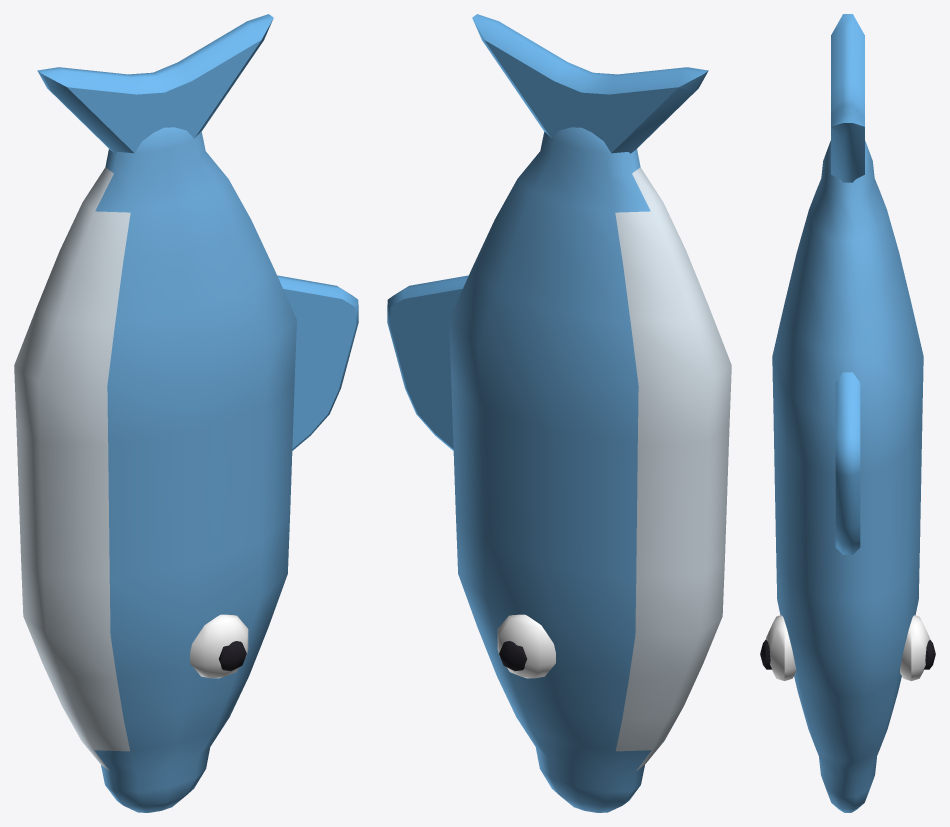
Rendered from item_fish.glb.
3 renders of one model, left to right at view 1: azimuth 30°, elevation 25°; view 2: azimuth 150°, elevation 25°; view 3: azimuth 270°, elevation 25°, orthographic. The views are drawn at different scales.
Visible parts, largest first — view 1: item_fish; view 2: item_fish; view 3: item_fish.
Part boxes in pixels (x1,y1,x2,y2): item_fish: (14, 14, 358, 812); item_fish: (387, 14, 731, 812); item_fish: (760, 14, 935, 812).
Bounding box in the file's own units: 0.1505 × 0.3342 × 0.072.
